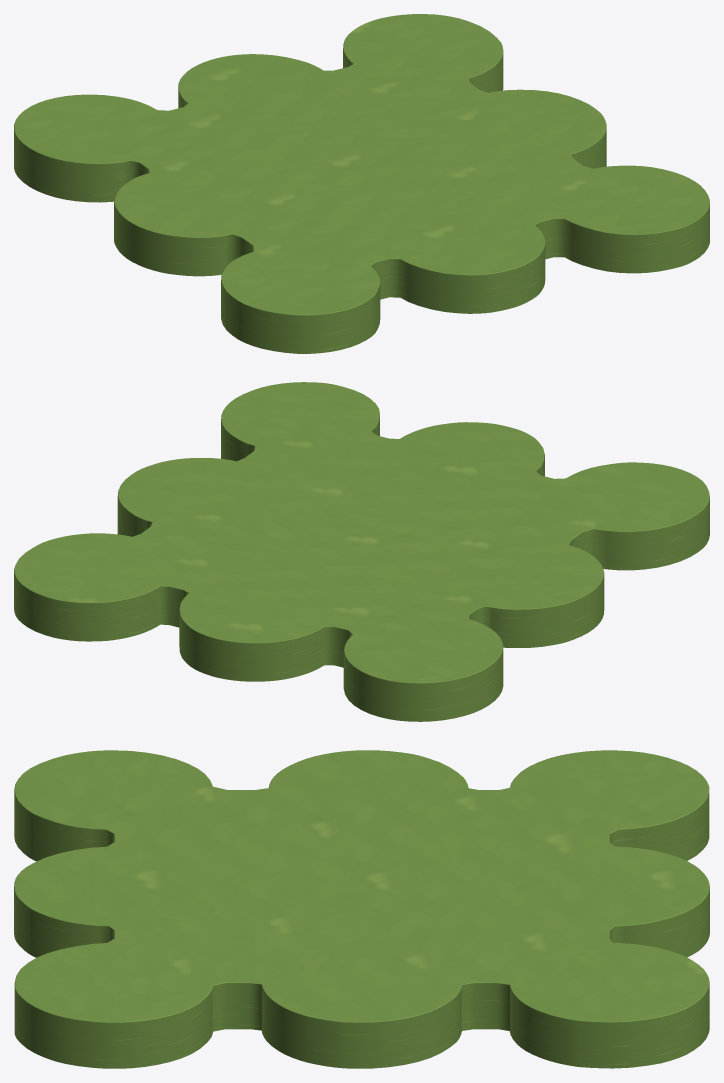
The model's file is bulbous.glb.
3 views of the same model, one above another, from view 1: azimuth 30°, elevation 25°; view 2: azimuth 150°, elevation 25°; view 3: azimuth 270°, elevation 25° (orthographic). The views are drawn at different scales.
Visible parts, largest first — view 1: geometry_0; view 2: geometry_0; view 3: geometry_0.
Part boxes in pixels (x1=…): geometry_0: x1=14, y1=14, x2=709, y2=353; geometry_0: x1=14, y1=382, x2=709, y2=721; geometry_0: x1=14, y1=750, x2=709, y2=1068.
Size of the model in its own units: 75.17 by 6 by 81.2.
Materials: 1 (1 with a texture image).
